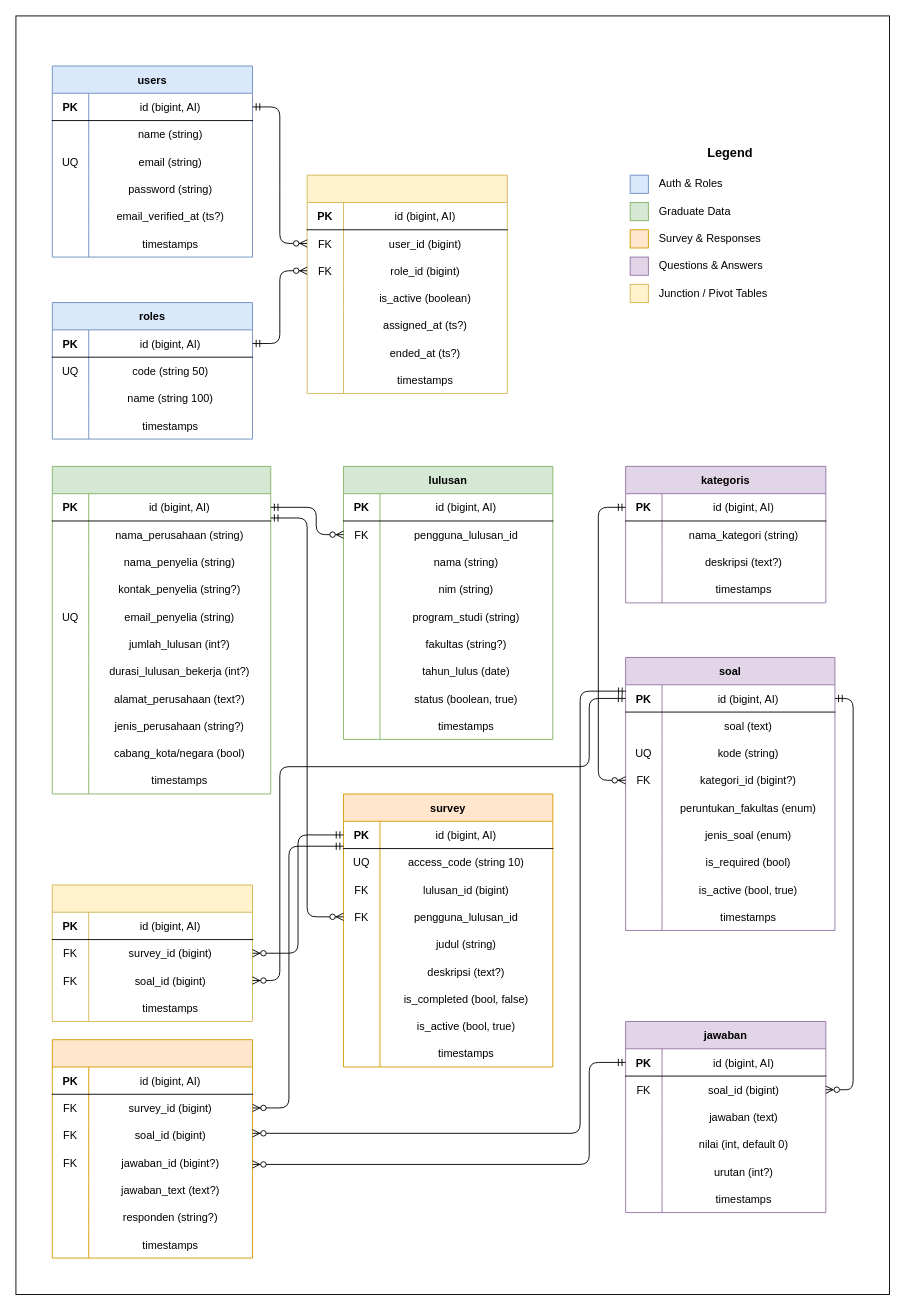
This 905x1310 diagram has some shape labels left out. The box of each missing label's shape, as (x1, y1, x2, y2) in pixels:
pengguna_lulusan: (51, 465, 271, 794)
respon_jawaban: (51, 1039, 253, 1258)
survey_soal: (51, 884, 253, 1021)
user_roles: (306, 174, 507, 394)
